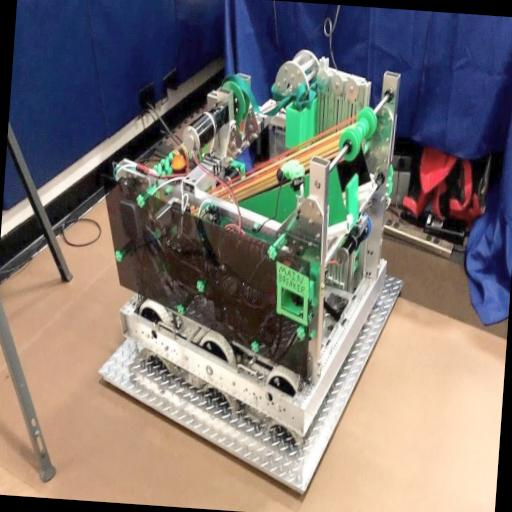robot: (94, 34, 404, 446)
